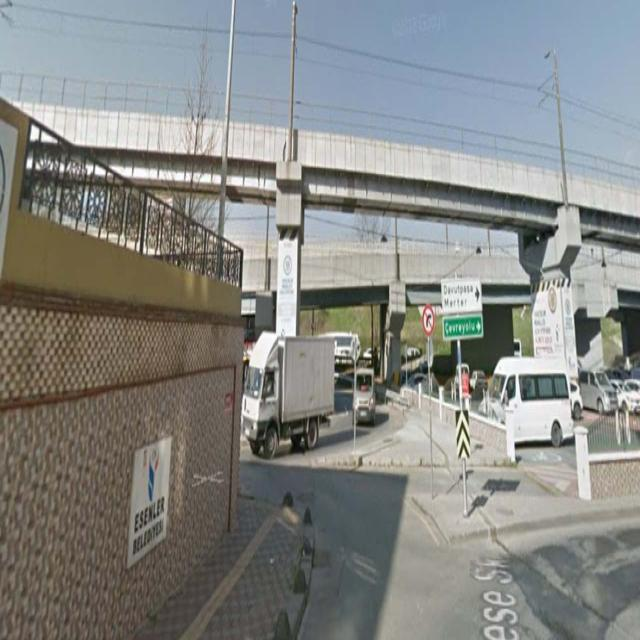sagadonulmez: (422, 306, 436, 336)
